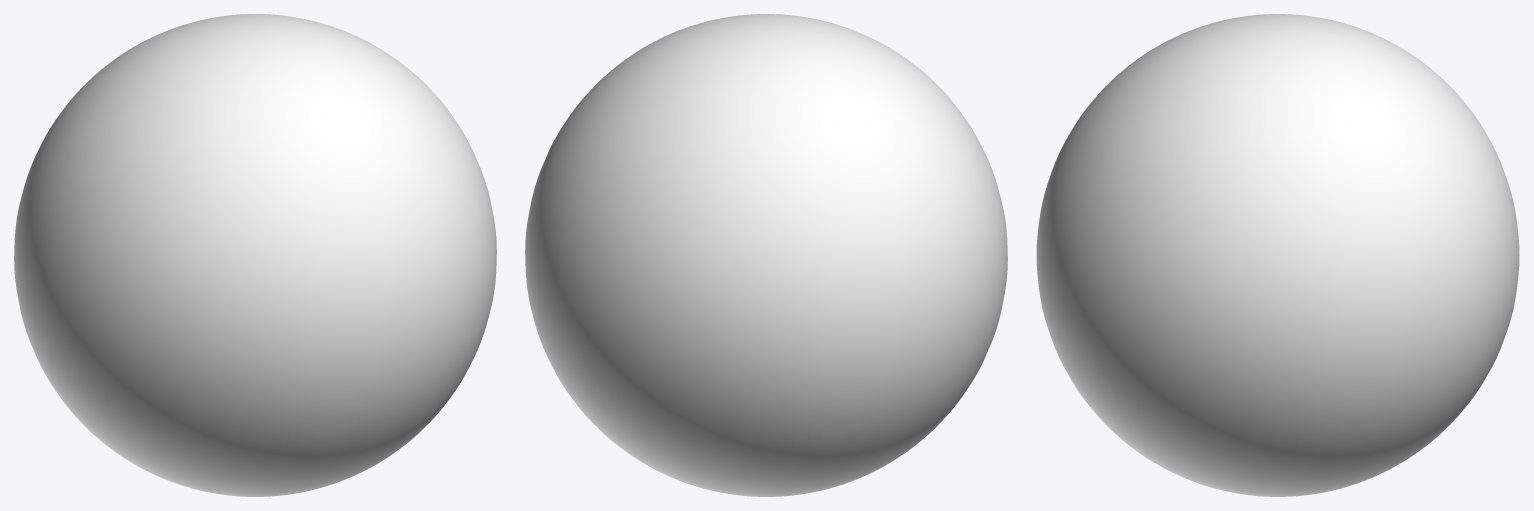
Rendered from Ball0.obj.
3 renders of one model, left to right at view 1: azimuth 30°, elevation 25°; view 2: azimuth 150°, elevation 25°; view 3: azimuth 270°, elevation 25°, orthographic.
Parts seen in each view (by area): view 1: Sphere; view 2: Sphere; view 3: Sphere.
Boxes of the visible parts, x1=… form: Sphere: x1=14, y1=14, x2=496, y2=496; Sphere: x1=525, y1=14, x2=1007, y2=496; Sphere: x1=1036, y1=14, x2=1519, y2=496.
Size of the model in its own units: 2 by 2 by 2.
Materials: 1 (1 with a texture image).
